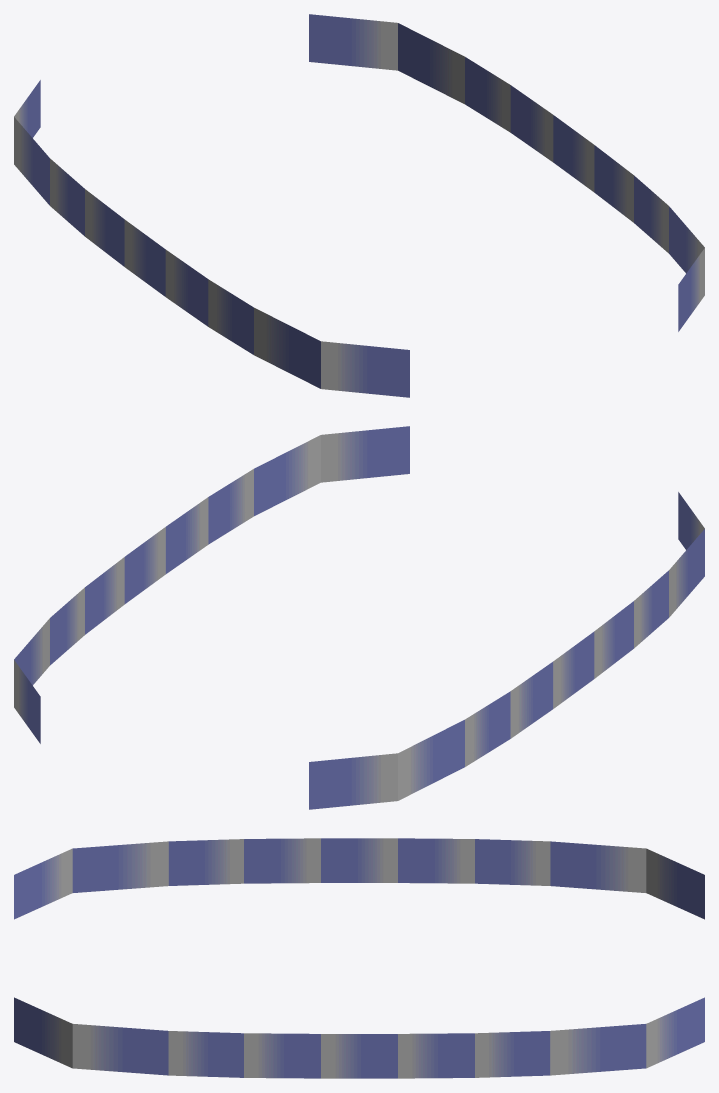
3 renders of one model, top to bottom at view 1: azimuth 30°, elevation 25°; view 2: azimuth 150°, elevation 25°; view 3: azimuth 270°, elevation 25°, orthographic. The views are drawn at different scales.
Size of the model in its own units: 79.06 by 8.43 by 118.
1 material, 1 textured.
